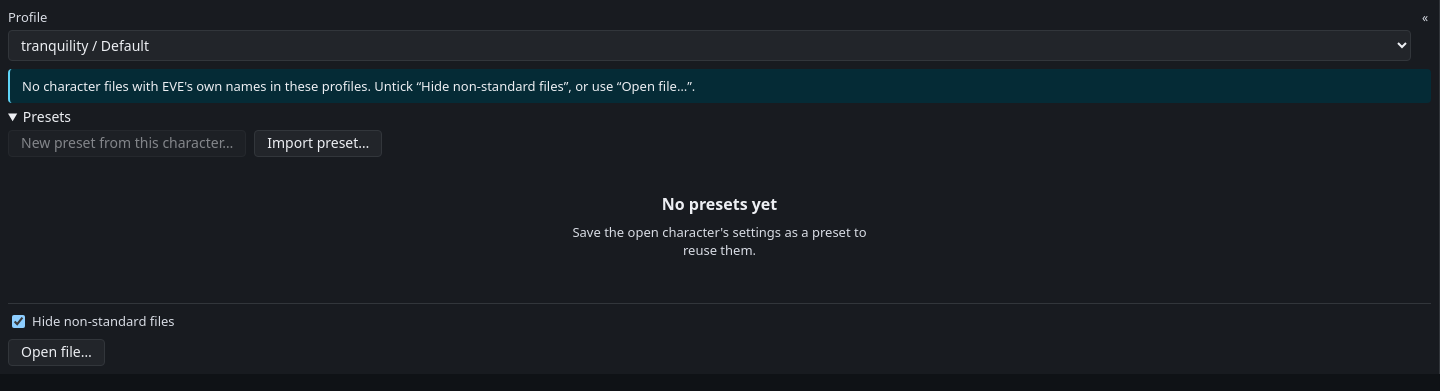
it: when nothing in the sidebar can be listed › unticking the filter reveals the file and drops the hint
Expected: the text "Untick" is shown, [22, 77, 695, 95]
Step 1. Click the checkbox labelled "Hide non-standard files" → point(18, 321), box [12, 315, 25, 328]
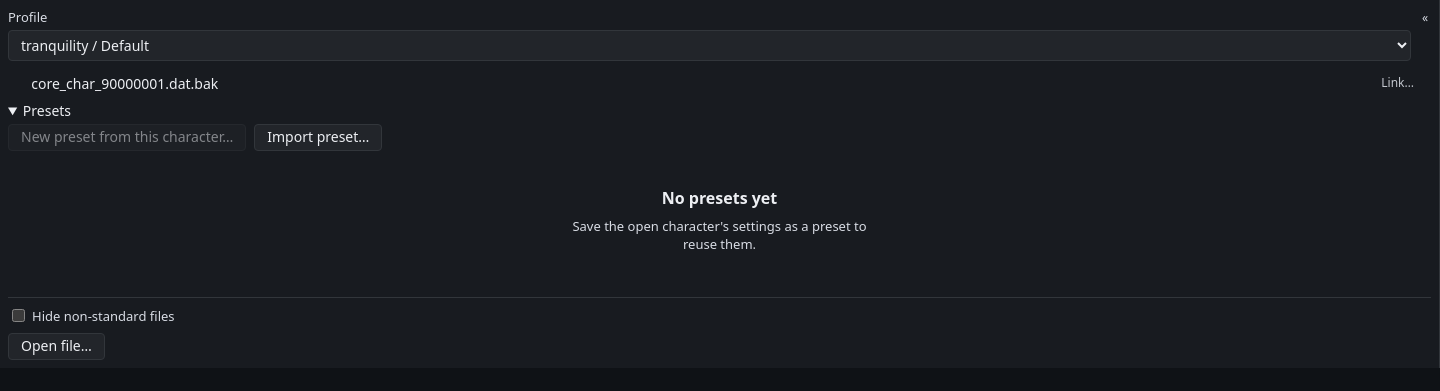
Now the text "Untick" is gone
